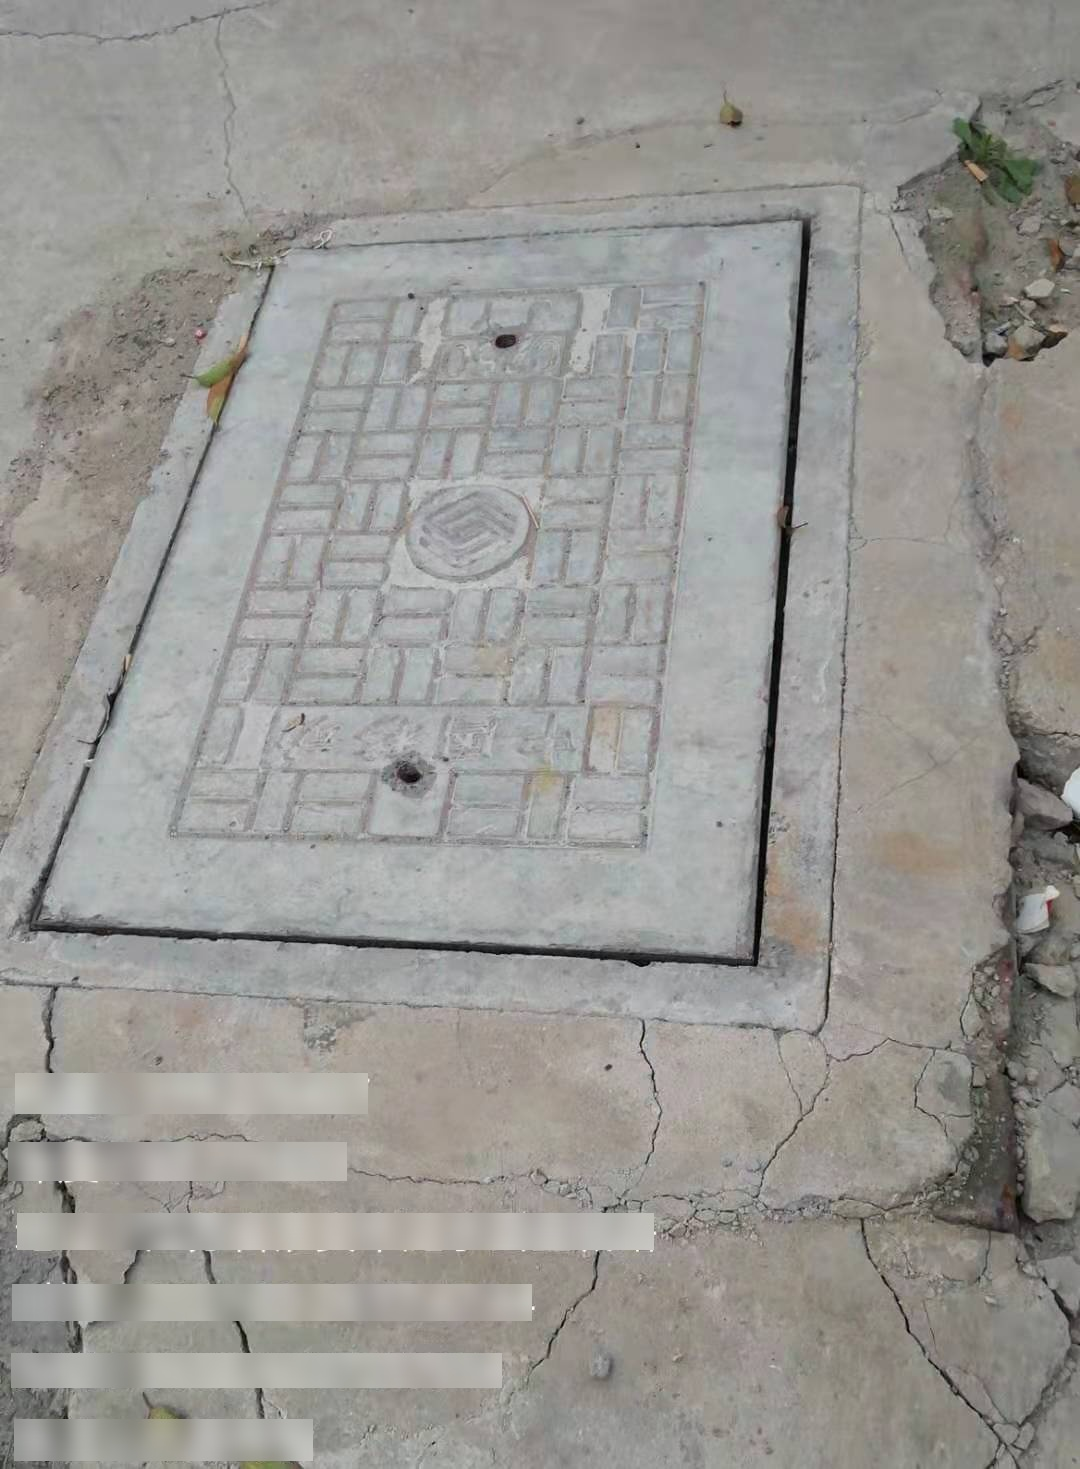good: (2, 182, 860, 1029)
